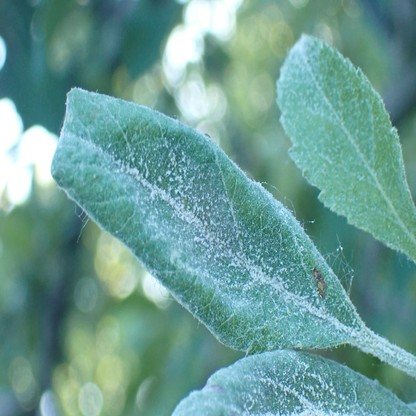frogeye: (314, 267, 326, 298)
powder: (52, 85, 360, 350), (276, 32, 416, 265), (170, 350, 415, 416)
